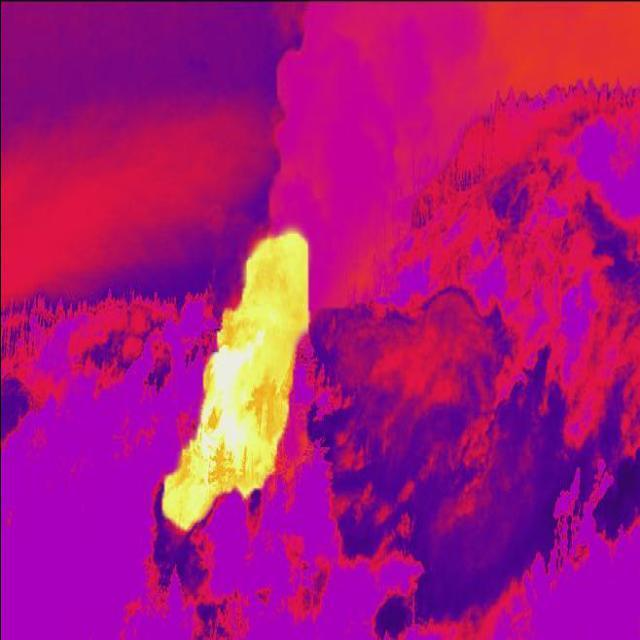fire: (162, 232, 311, 533)
